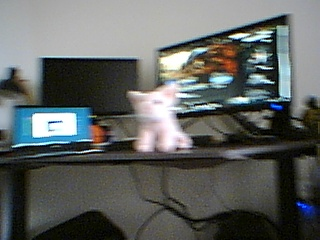piggy: (125, 83, 194, 153)
